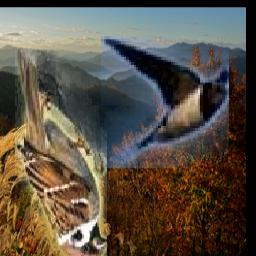Sparrow: (15, 50, 107, 256)
Swallow: (101, 36, 229, 168)
